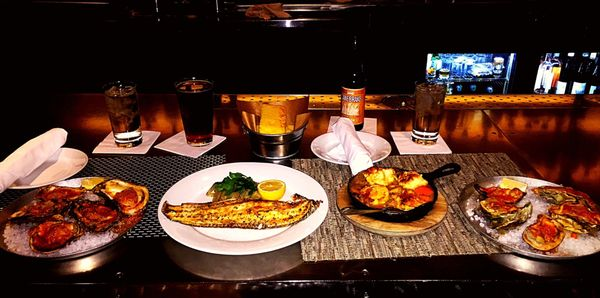pizza: (237, 95, 311, 161), (175, 78, 215, 146), (103, 79, 142, 147), (411, 82, 446, 145)
